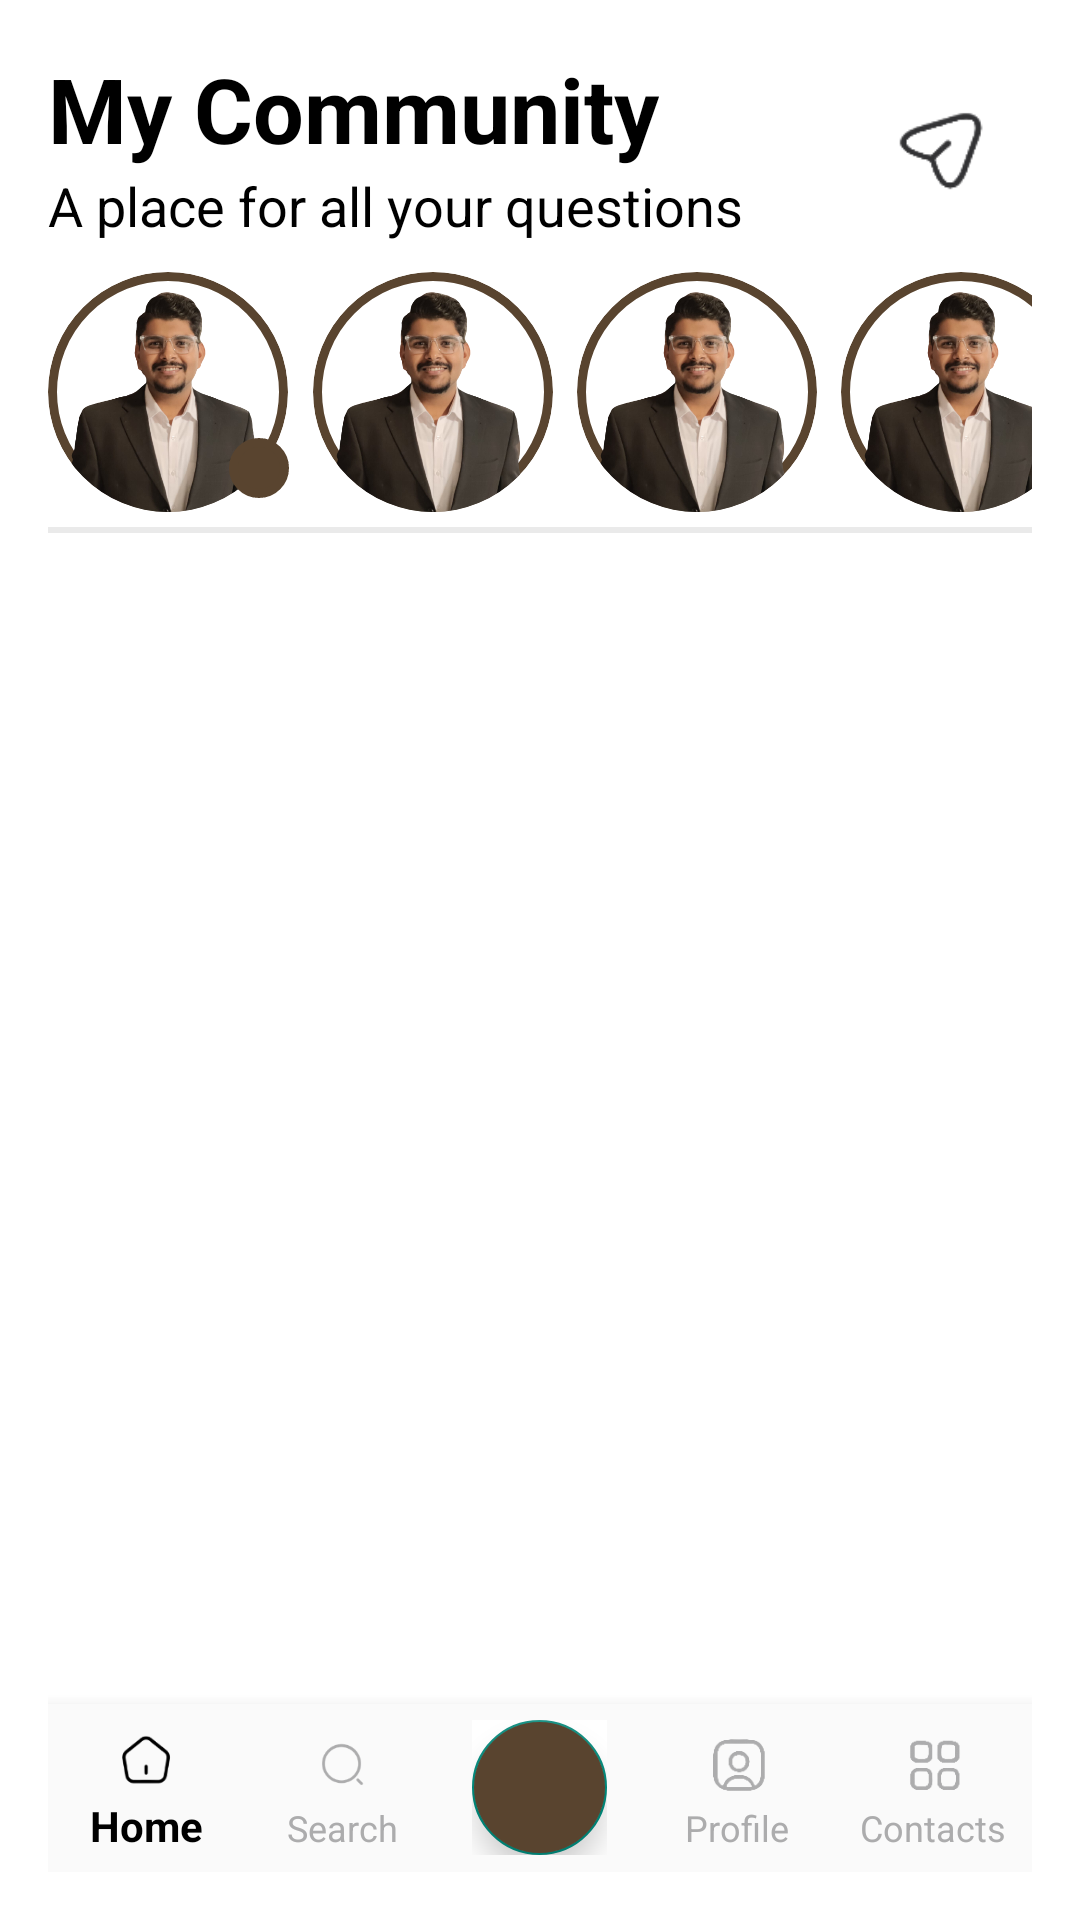

Icons on this 1080px x 1920px Android screen, each with the point to tap as (x=x, y=y):
Direct Messages Icon: (x=941, y=151)
